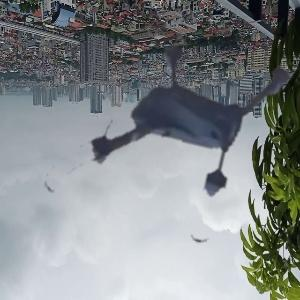drone: (52, 24, 285, 257)
